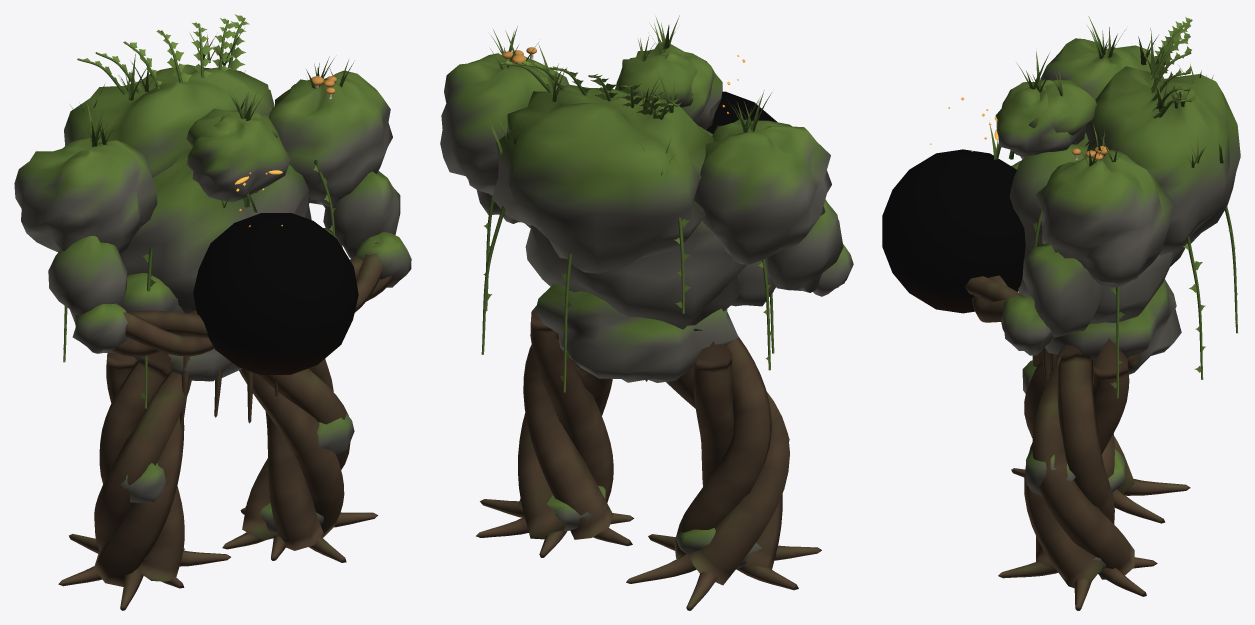
File: tender.glb
3 views of the same model, side by side, from view 1: azimuth 30°, elevation 25°; view 2: azimuth 150°, elevation 25°; view 3: azimuth 270°, elevation 25° (orthographic). The views are drawn at different scales.
Visible parts, largest first — view 1: tender-body, tender-fx; view 2: tender-body, tender-fx; view 3: tender-body, tender-fx.
Boxes of the visible parts, x1,y1,x2,y2 form: tender-body: [14, 14, 411, 610]; tender-fx: [193, 213, 358, 374]; tender-body: [440, 15, 853, 610]; tender-fx: [706, 91, 777, 133]; tender-body: [964, 16, 1240, 610]; tender-fx: [882, 149, 1025, 313].
Bounding box in the file's own units: 1.58 × 2.09 × 1.39.
